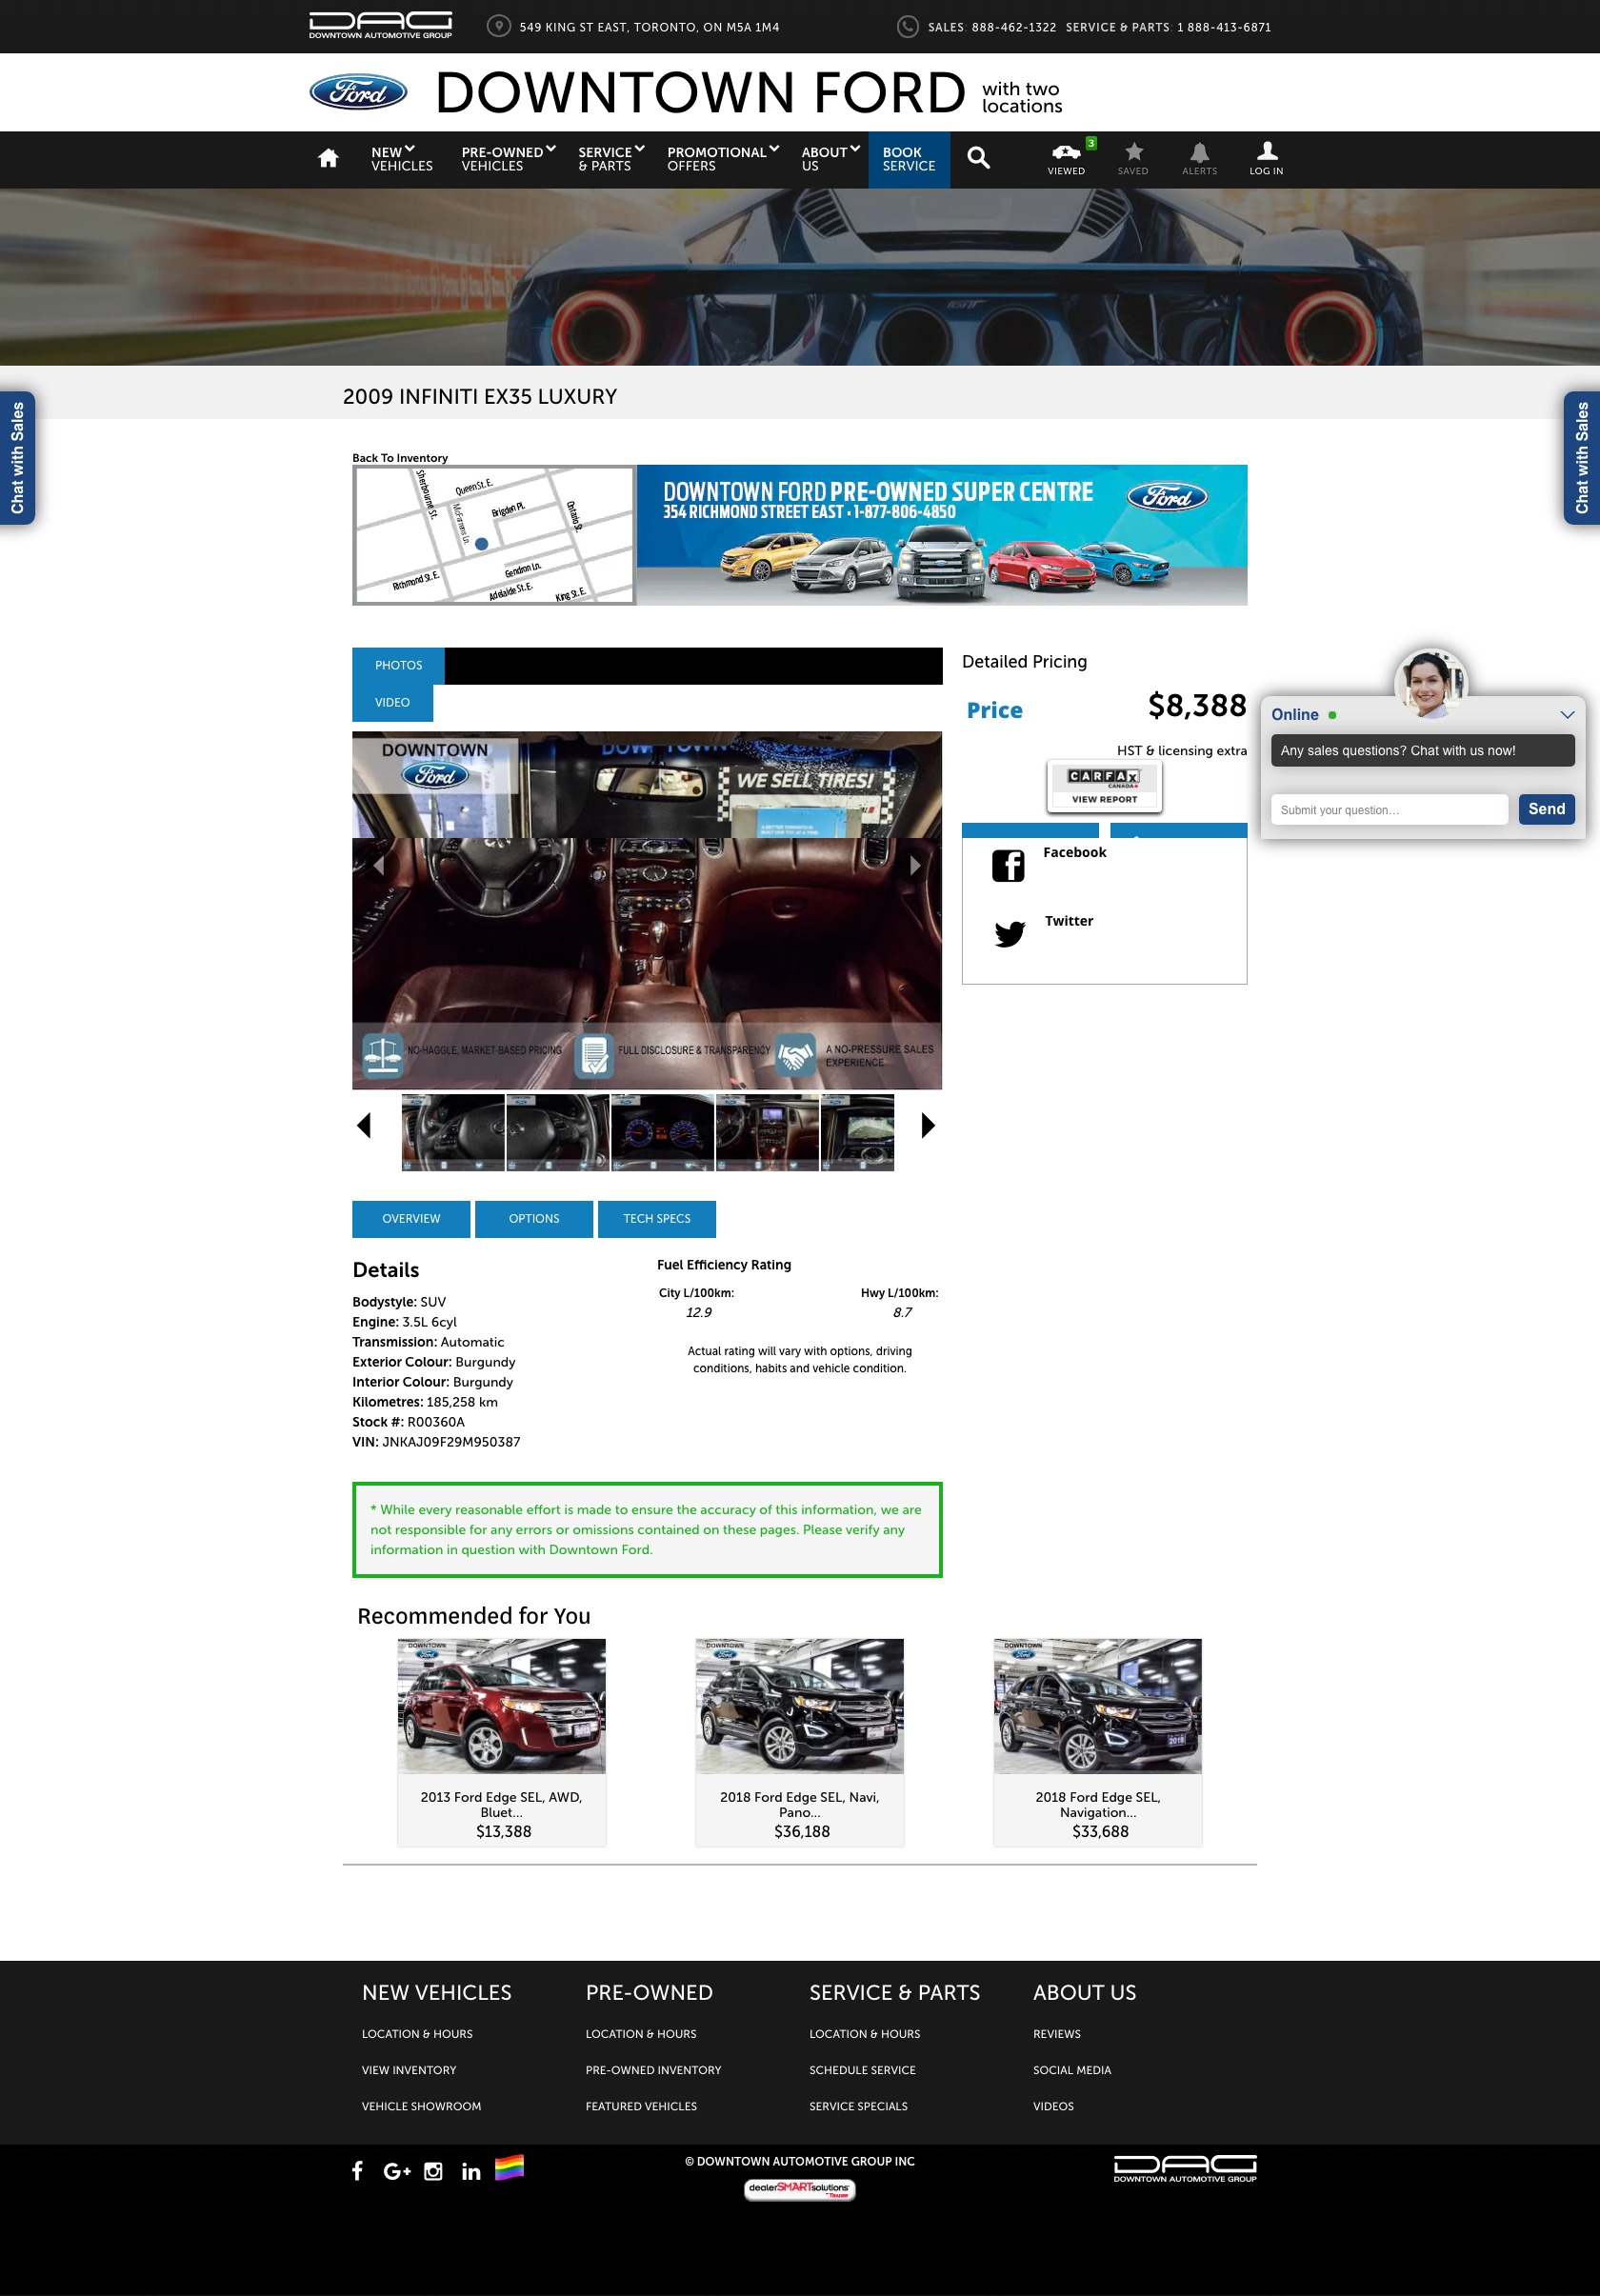car: (921, 1111, 937, 1141)
